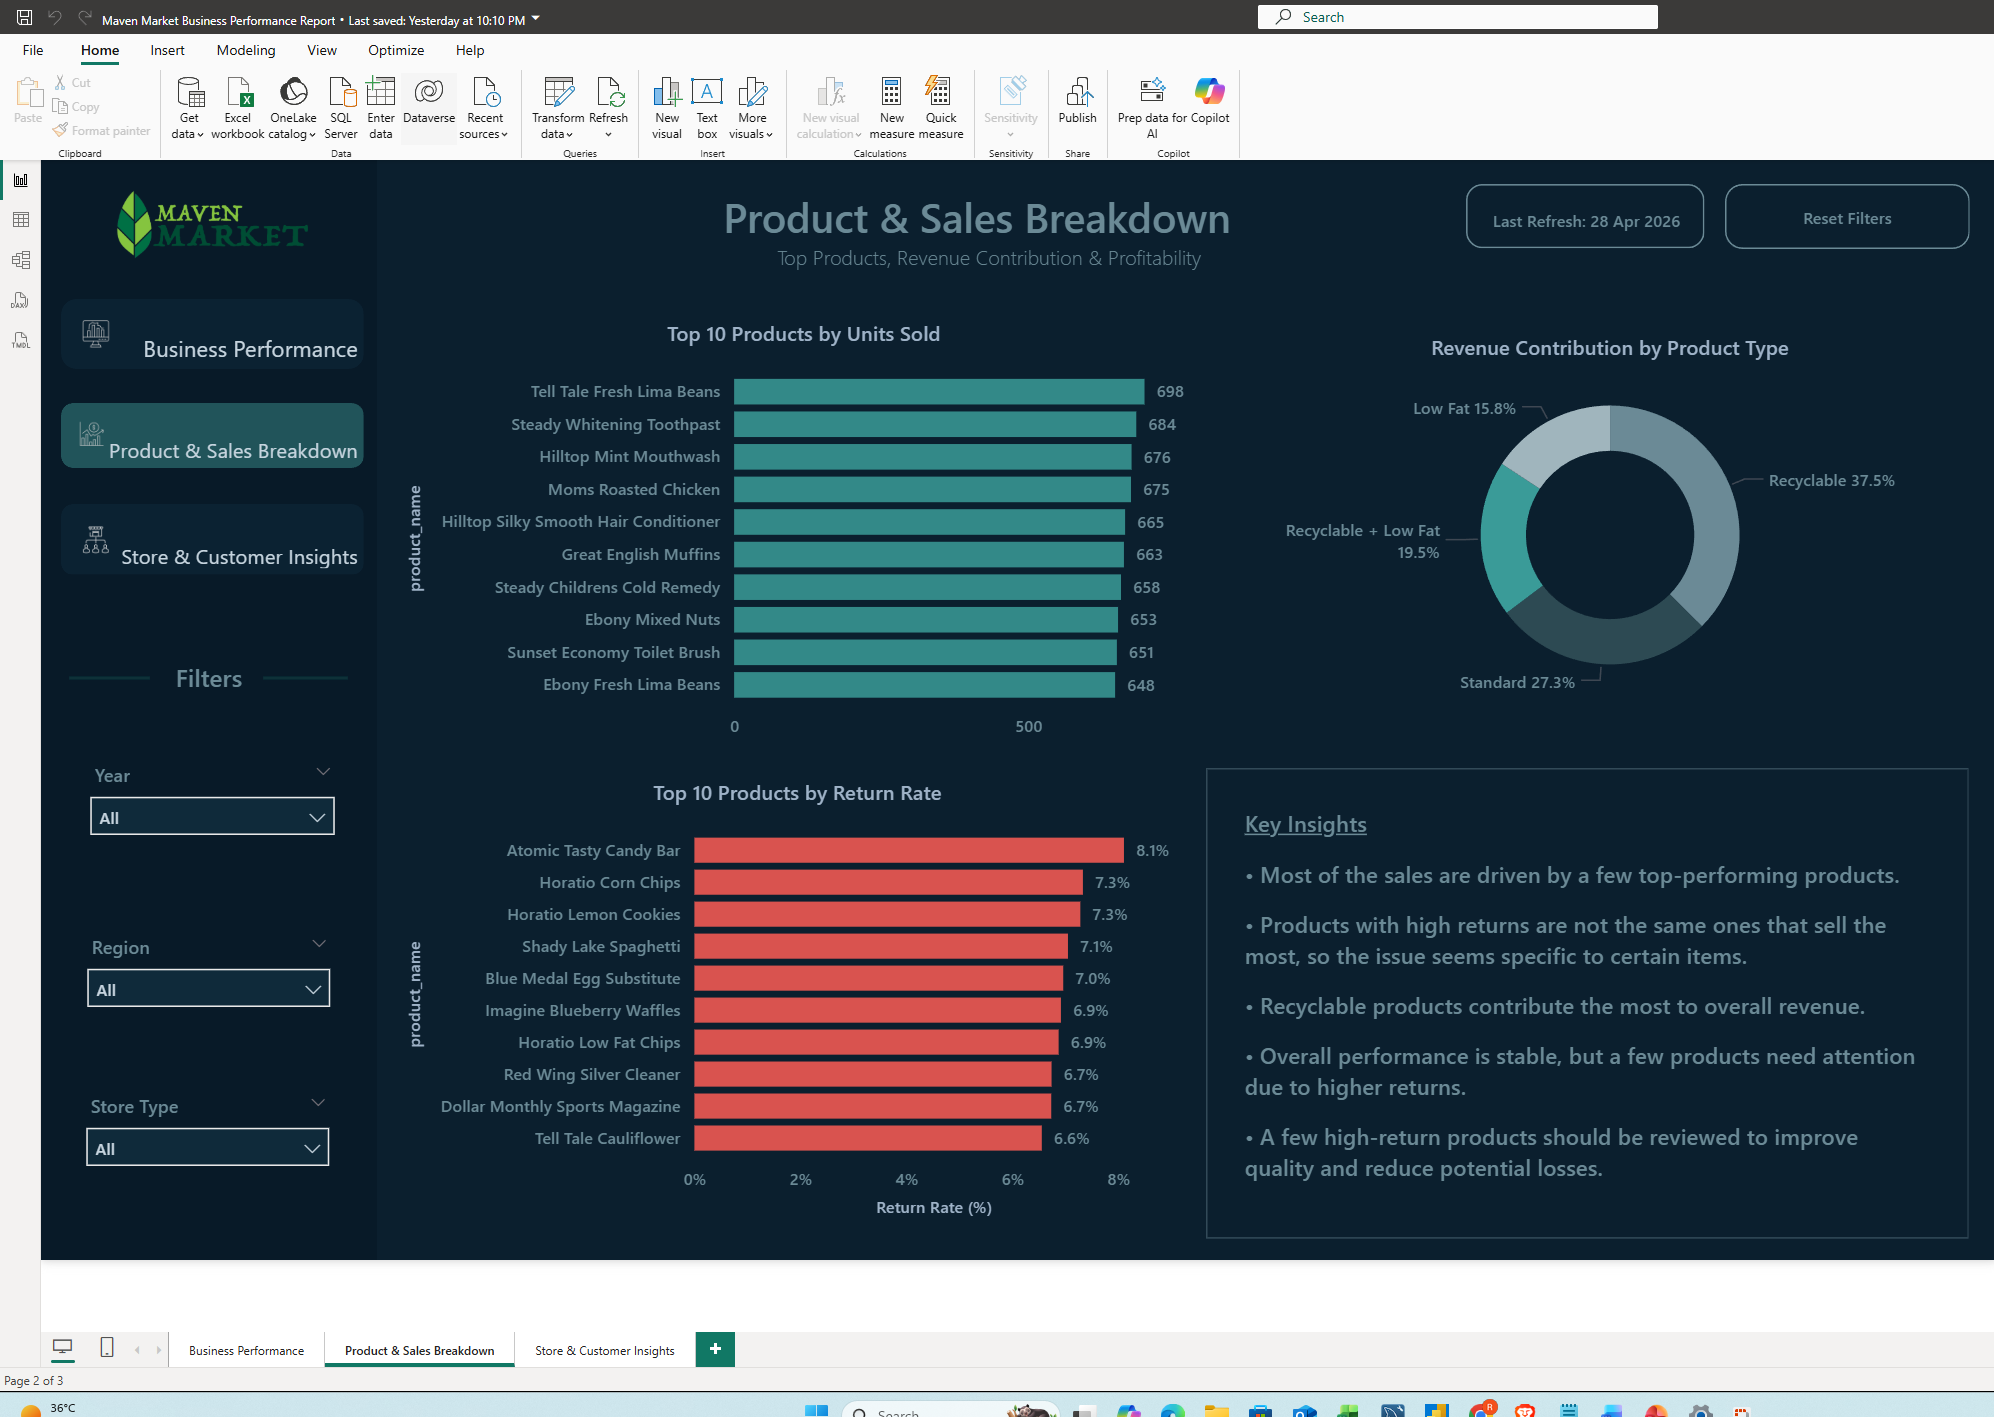

The dashboard page shown, as its layout file describes it:
{"tool":"powerbi","page":{"name":"Product & Sales Breakdown","canvas":[1280,720],"ordinal":1},"visuals":[{"type":"shape","box":[0,0,219.9,719.8],"z":0},{"type":"textbox","box":[46.2,322.9,127,39.9],"z":0,"group":"g4"},{"type":"actionButton","title":"Performance Pulse","box":[13.1,91,198.3,45.8],"z":1000},{"type":"shape","box":[137.5,326.8,71.3,24.9],"z":1000,"group":"g4"},{"type":"image","box":[27.1,104.7,18.3,18.3],"z":2000},{"type":"shape","box":[10.5,326.8,68.7,24.9],"z":2000,"group":"g4"},{"type":"actionButton","title":"Performance Pulse","box":[13.1,159,198.3,42.5],"z":3000,"group":"g2"},{"type":"group","id":"g1","title":"Group 3","box":[13.1,225.1,198.3,46.5],"z":3000},{"type":"group","id":"g2","title":"Group 4","box":[13.1,159,198.3,42.5],"z":4000},{"type":"actionButton","title":"Performance Pulse","box":[13.1,225.1,198.3,46.5],"z":4000,"group":"g1"},{"type":"textbox","box":[342.9,15.7,465.3,73.9],"z":5000},{"type":"image","box":[24.5,170.1,18.3,18.3],"z":5000,"group":"g2"},{"type":"image","box":[27.1,239.5,18.3,18.3],"z":5000,"group":"g1"},{"type":"image","box":[22,17.3,179.3,50],"z":6000},{"type":"group","id":"g3","title":"Group 1","box":[10.5,322.9,198.3,39.9],"z":7000},{"type":"slicer","fields":{"Values":["Calendar.Year"]},"box":[22.2,389,180,60.2],"z":8000},{"type":"slicer","fields":{"Values":["Regions.sales_region"]},"box":[20.3,501.6,179.3,60.2],"z":9000},{"type":"group","id":"g4","title":"Group 2","box":[10.5,322.9,198.3,39.9],"z":9004,"group":"g3"},{"type":"slicer","fields":{"Values":["Stores.store_type"]},"box":[19.6,605.6,179.3,60.2],"z":10000},{"type":"donutChart","title":"Revenue Contribution by Product Type","fields":{"Category":["Products.Product Type"],"Y":["Measures Table.Total Revenue"]},"box":[791.8,117.1,469.9,225.8],"z":11000},{"type":"clusteredBarChart","title":"Top 10 Products by Units Sold","fields":{"Category":["Products.product_name"],"Y":["Measures Table.Quantity_Sold"]},"box":[235.6,104.7,527.4,284],"z":12000},{"type":"clusteredBarChart","title":"Products With Highest Return Rate","fields":{"Category":["Products.product_name"],"Y":["Measures Table.Return Rate %"]},"box":[235.6,405.1,518.9,291.9],"z":13000},{"type":"actionButton","box":[1104,17,158.4,41.2],"z":14000},{"type":"cardVisual","fields":{"Data":["Measures Table.Data Period"]},"box":[876.9,15.7,210.7,45.8],"z":15000},{"type":"scatterChart","title":"Top 20 Brands: Revenue vs Profit Margin","fields":{"X":["Measures Table.Total Revenue"],"Y":["Measures Table.Profit Margin"],"Size":["Measures Table.Quantity_Sold"],"Category":["Products.product_brand"]},"box":[773.5,405.1,488.2,286.6],"z":16000}]}

Visuals, with their boxes on the page's 1280x720 design canvas (x1, y1, x2, y2). These are canvas units, not pixel positions in the 1994x1417 screenshot, which may show the page scaled, cropped or inside an application window:
shape: left=0, top=0, right=220, bottom=720
textbox: left=46, top=323, right=173, bottom=363
"Performance Pulse" actionButton: left=13, top=91, right=211, bottom=137
shape: left=138, top=327, right=209, bottom=352
image: left=27, top=105, right=45, bottom=123
shape: left=10, top=327, right=79, bottom=352
"Performance Pulse" actionButton: left=13, top=159, right=211, bottom=202
"Group 3" group: left=13, top=225, right=211, bottom=272
"Group 4" group: left=13, top=159, right=211, bottom=202
"Performance Pulse" actionButton: left=13, top=225, right=211, bottom=272
textbox: left=343, top=16, right=808, bottom=90
image: left=24, top=170, right=43, bottom=188
image: left=27, top=240, right=45, bottom=258
image: left=22, top=17, right=201, bottom=67
"Group 1" group: left=10, top=323, right=209, bottom=363
slicer - Calendar.Year: left=22, top=389, right=202, bottom=449
slicer - Regions.sales_region: left=20, top=502, right=200, bottom=562
"Group 2" group: left=10, top=323, right=209, bottom=363
slicer - Stores.store_type: left=20, top=606, right=199, bottom=666
"Revenue Contribution by Product Type" donutChart: left=792, top=117, right=1262, bottom=343
"Top 10 Products by Units Sold" clusteredBarChart: left=236, top=105, right=763, bottom=389
"Products With Highest Return Rate" clusteredBarChart: left=236, top=405, right=754, bottom=697
actionButton: left=1104, top=17, right=1262, bottom=58
cardVisual - Measures Table.Data Period: left=877, top=16, right=1088, bottom=62
"Top 20 Brands: Revenue vs Profit Margin" scatterChart: left=774, top=405, right=1262, bottom=692
